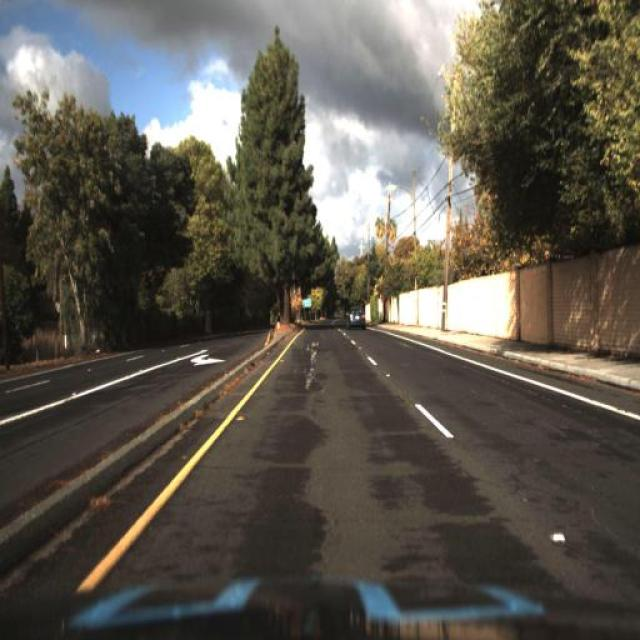car: (349, 308, 370, 330)
